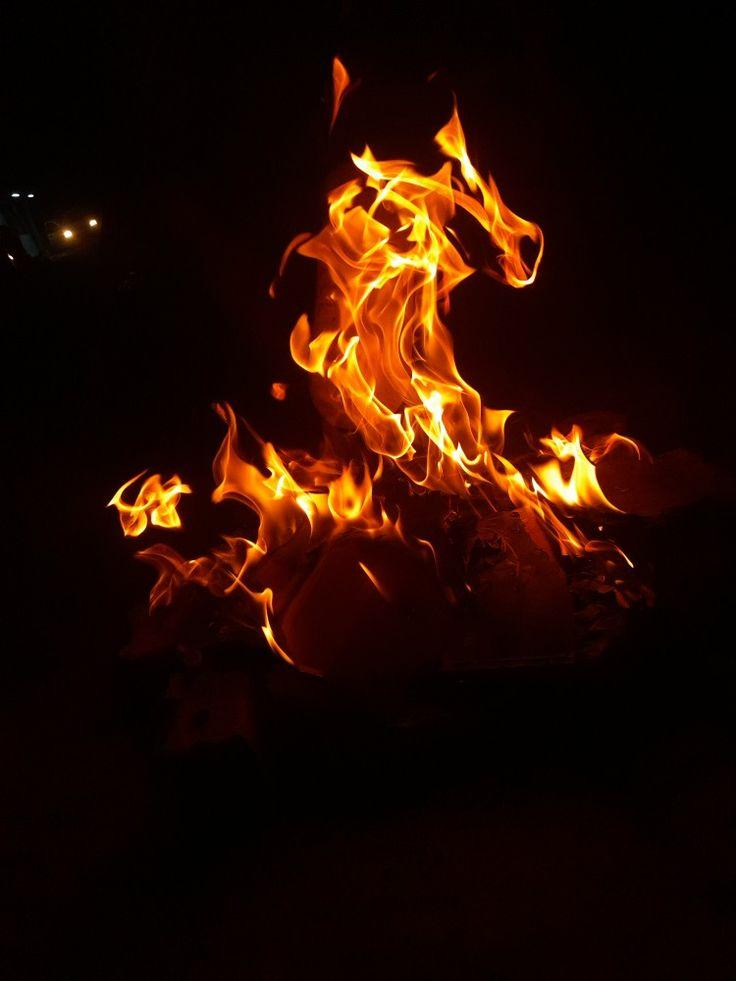Fire: (106, 32, 667, 697)
